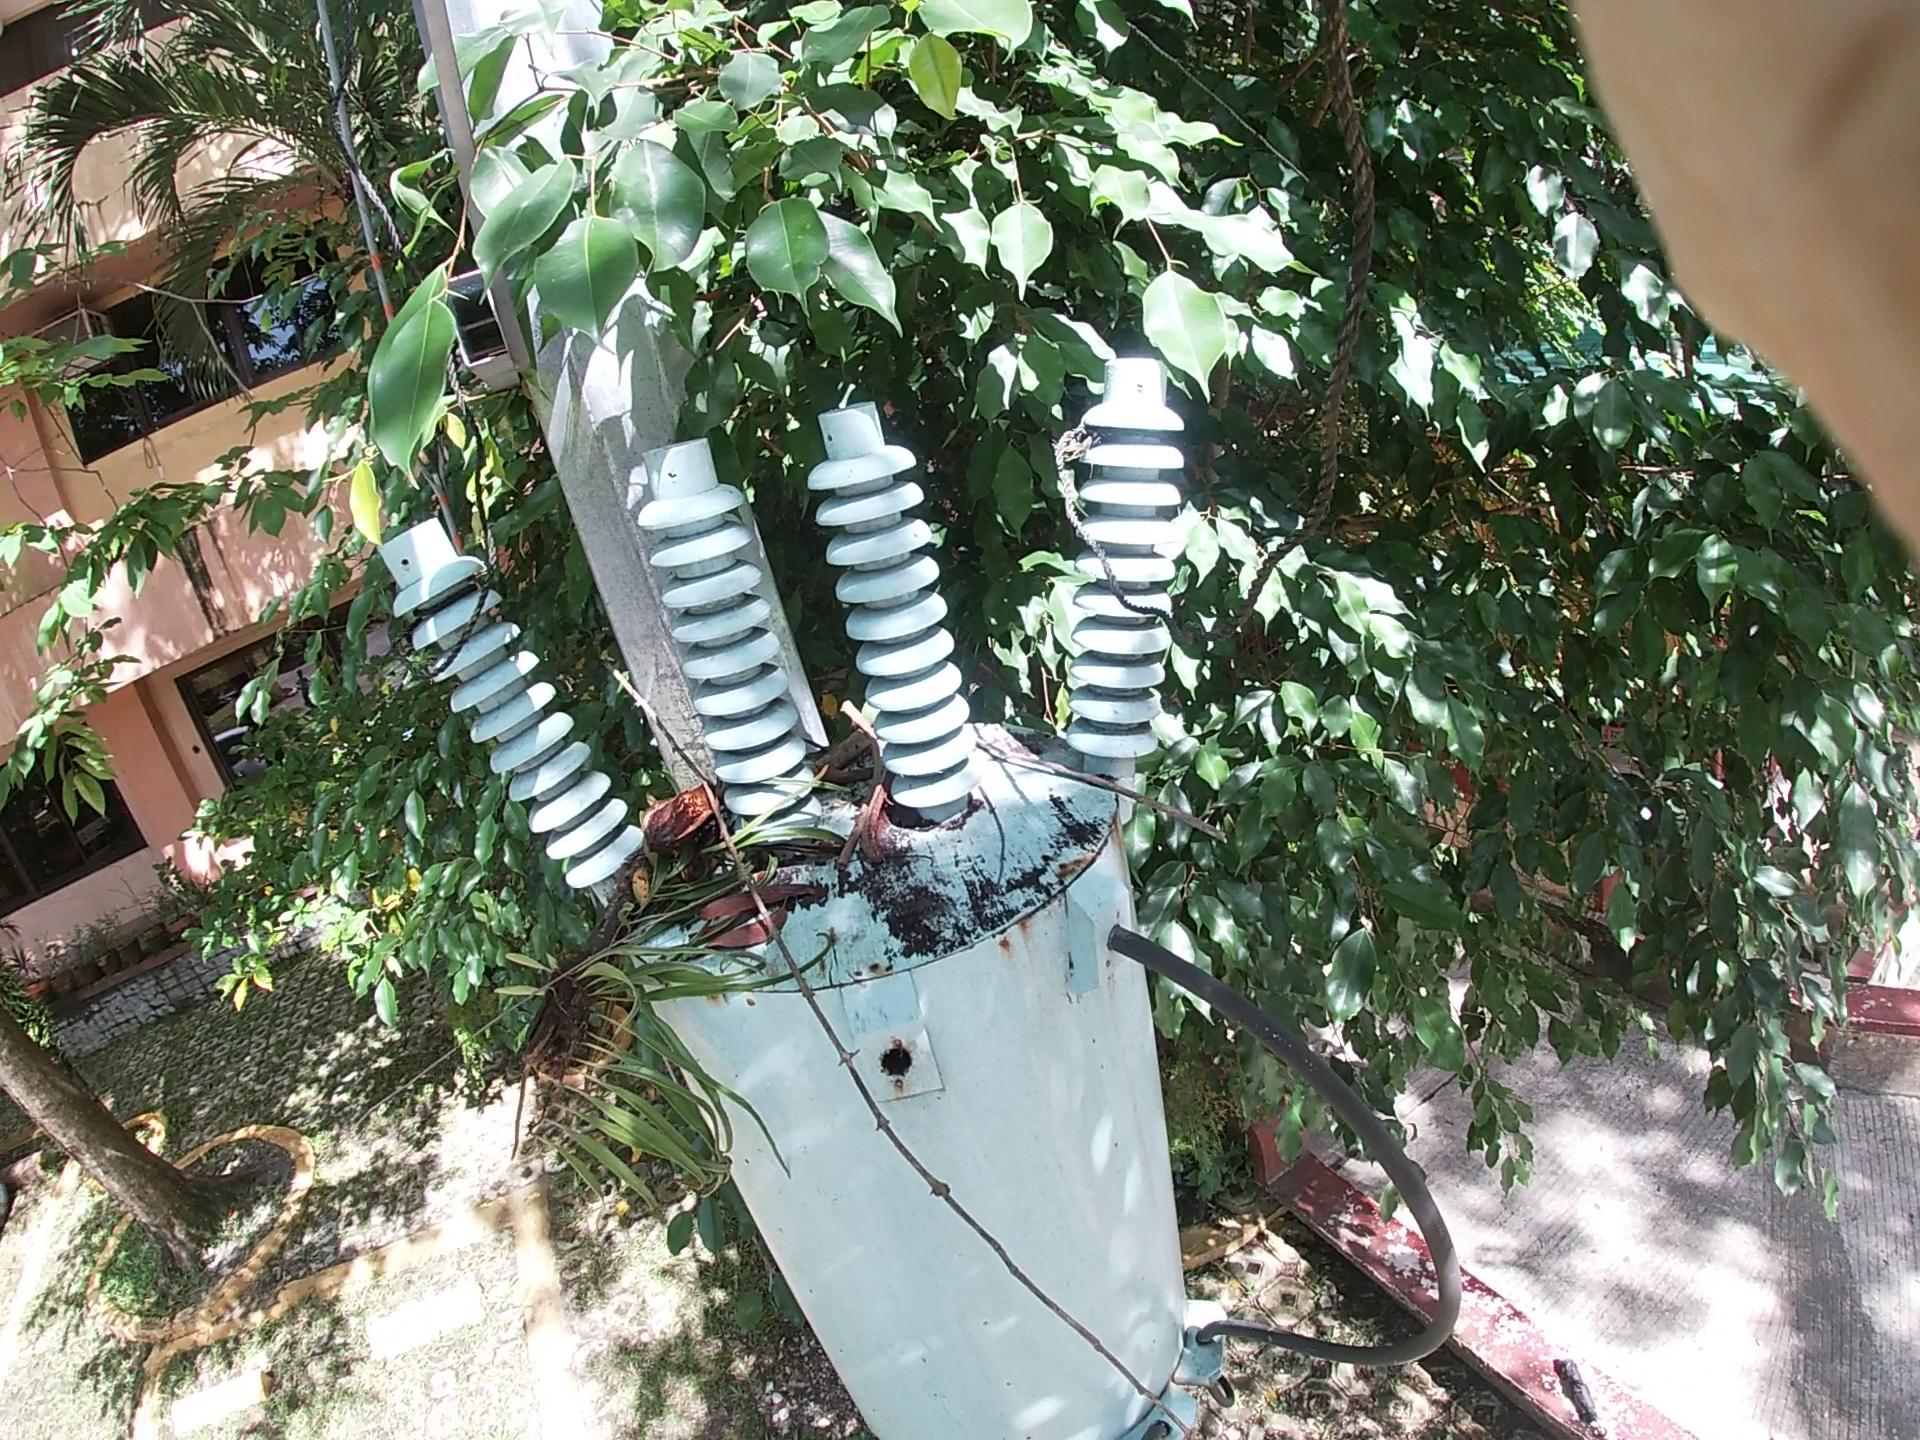branch with leaves: (475, 641, 831, 1157)
leaf: (711, 895, 821, 1051)
mahogany fruit: (819, 731, 980, 874), (602, 774, 773, 844)
tree branch: (565, 637, 1114, 1357), (915, 616, 1237, 871), (812, 673, 928, 951)
